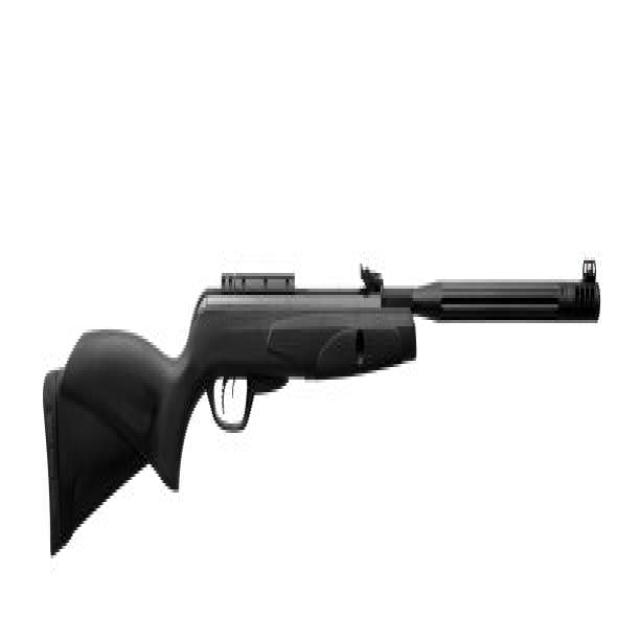rifle: (32, 235, 607, 561)
